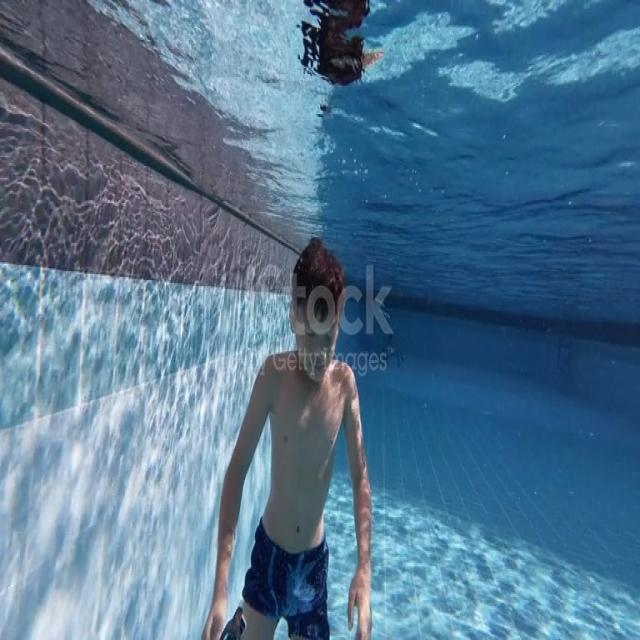Drowning: (200, 235, 375, 639)
